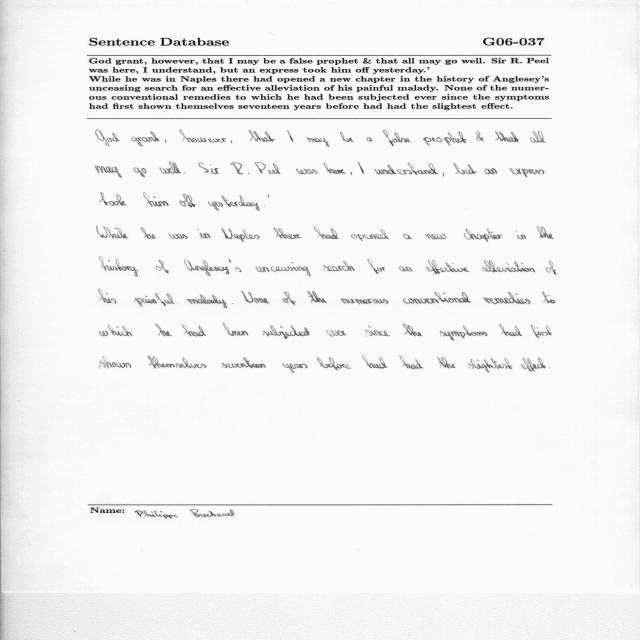word: (184, 259, 242, 276), (208, 195, 260, 211), (403, 292, 471, 304), (255, 262, 311, 276), (374, 163, 438, 175), (148, 356, 207, 369), (440, 325, 487, 341), (482, 260, 535, 273), (100, 259, 138, 277), (423, 131, 467, 146), (468, 358, 512, 373), (263, 325, 309, 339), (426, 260, 469, 274), (180, 130, 226, 143), (133, 293, 175, 307), (484, 292, 531, 304), (464, 228, 502, 242), (187, 295, 227, 308), (221, 229, 260, 242), (222, 357, 266, 368), (351, 230, 389, 242), (317, 357, 352, 370), (383, 130, 411, 146), (131, 132, 160, 147), (97, 226, 128, 239), (96, 130, 120, 146), (100, 192, 127, 206), (100, 356, 131, 368), (143, 193, 169, 207), (100, 325, 132, 336), (95, 165, 122, 178), (521, 358, 546, 372), (241, 291, 270, 303), (314, 226, 339, 239), (223, 323, 248, 336), (362, 356, 387, 369), (323, 261, 355, 271), (510, 168, 545, 177), (249, 130, 275, 142), (255, 162, 281, 174), (399, 356, 423, 369), (274, 228, 302, 239), (531, 324, 552, 338), (341, 299, 389, 305), (182, 325, 206, 337), (499, 324, 522, 336), (368, 259, 386, 274), (99, 289, 117, 304), (495, 131, 519, 142), (160, 162, 182, 174), (453, 163, 477, 174), (282, 363, 308, 373), (323, 163, 346, 174), (198, 163, 219, 175), (365, 326, 390, 336), (403, 324, 422, 337), (307, 291, 327, 303), (307, 137, 330, 147), (230, 163, 249, 175), (179, 194, 196, 207), (537, 226, 554, 239), (155, 324, 172, 337), (437, 357, 456, 368), (156, 260, 169, 274), (530, 131, 545, 143), (141, 227, 156, 239), (283, 292, 295, 305), (542, 292, 555, 304), (546, 261, 557, 275), (340, 132, 354, 142), (197, 229, 211, 239), (326, 330, 346, 337), (296, 169, 318, 175), (134, 168, 147, 178), (425, 234, 446, 240), (169, 233, 188, 239), (516, 231, 526, 240), (399, 266, 413, 272), (476, 131, 484, 141), (485, 168, 498, 174), (358, 162, 364, 174), (287, 131, 293, 142), (403, 234, 412, 240), (366, 137, 373, 141), (267, 194, 269, 198), (443, 173, 444, 177), (231, 141, 232, 144), (351, 172, 352, 175), (165, 140, 166, 142), (232, 303, 234, 304), (184, 173, 185, 174), (264, 206, 265, 207), (549, 368, 550, 369)
